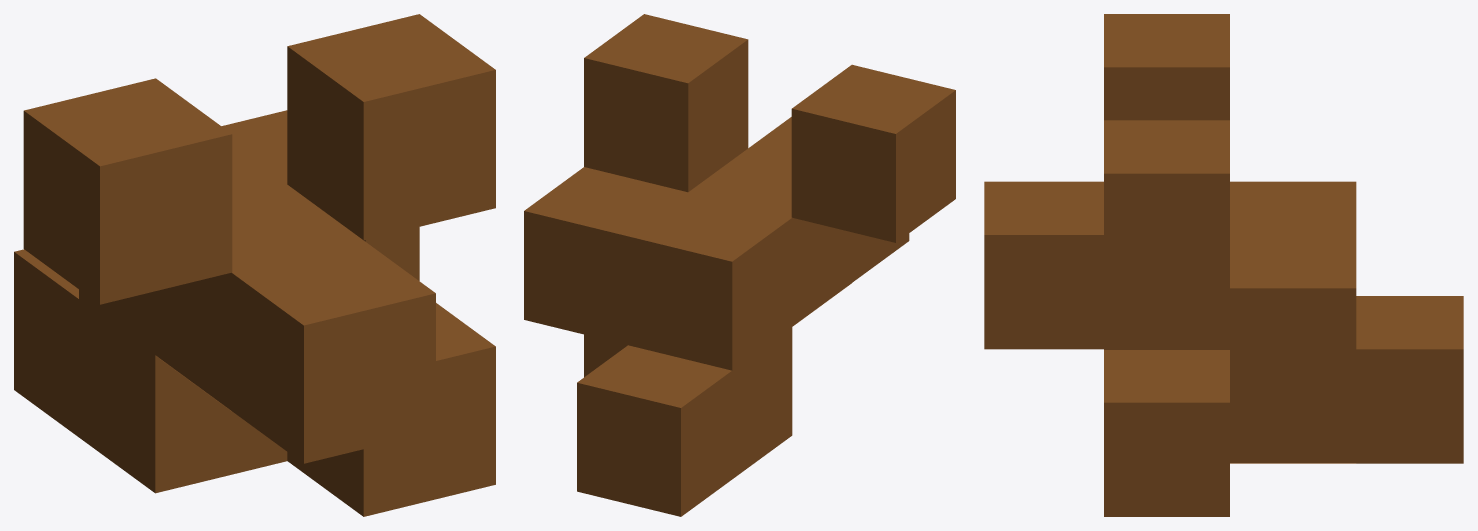
Rendered from melissa.glb.
3 renders of one model, left to right at view 1: azimuth 30°, elevation 25°; view 2: azimuth 150°, elevation 25°; view 3: azimuth 270°, elevation 25°, orthographic. The views are drawn at different scales.
Parts seen in each view (by area): view 1: Cube.001, Cube.002; view 2: Cube.001, Cube.002; view 3: Cube.001, Cube.002.
Part boxes in pixels (x1,y1,x2,y2): Cube.001: (14, 14, 495, 516); Cube.002: (23, 78, 232, 304); Cube.001: (524, 14, 909, 516); Cube.002: (791, 64, 955, 242); Cube.001: (984, 120, 1463, 516); Cube.002: (1104, 14, 1229, 120).
Bounding box in the file's own units: 3 × 3 × 3.8.
